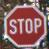Stop sign: (0, 0, 48, 48)
